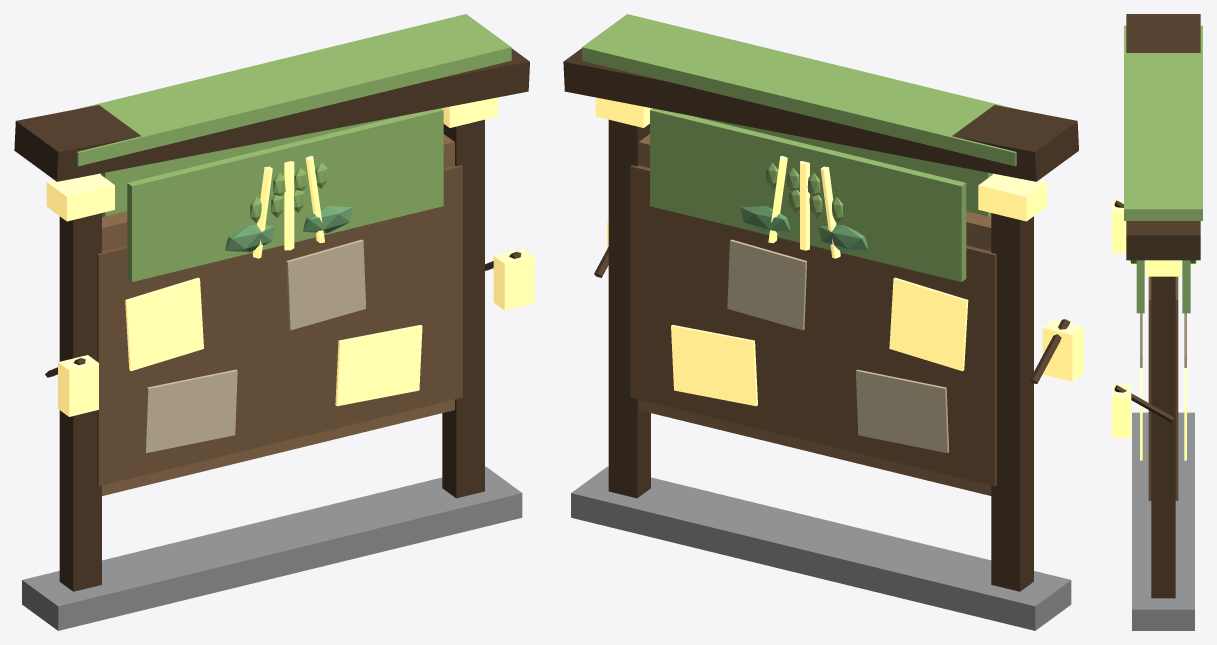
Rendered from request_board_farming.lod1.glb.
The picture shows the model from 3 angles, left to right: view 1: azimuth 30°, elevation 25°; view 2: azimuth 150°, elevation 25°; view 3: azimuth 270°, elevation 25°; orthographic projection. The views are drawn at different scales.
Size of the model in its own units: 6.6 by 6.43 by 1.27.
